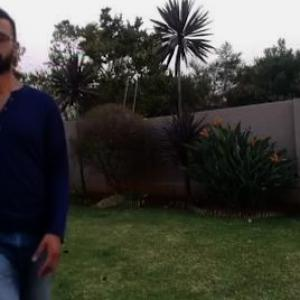follow: (1, 22, 77, 299)
